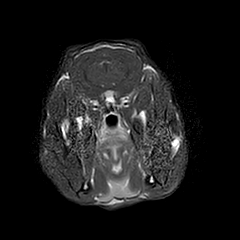Brain: (56, 17, 155, 115)
